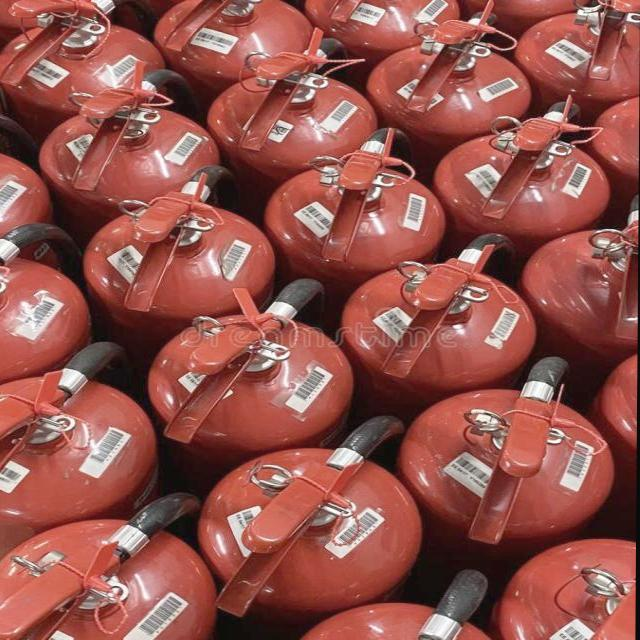FireExtinguisher: (129, 269, 368, 536), (263, 120, 455, 432), (200, 38, 410, 322), (80, 160, 292, 428), (373, 353, 627, 564), (324, 227, 553, 461), (408, 92, 606, 362), (194, 407, 430, 617), (361, 4, 547, 268), (138, 0, 320, 260), (10, 0, 174, 286), (0, 334, 190, 576), (40, 74, 230, 301), (0, 487, 223, 639), (506, 2, 639, 256), (0, 210, 127, 438), (509, 190, 638, 360), (291, 558, 516, 640), (490, 520, 636, 640)
